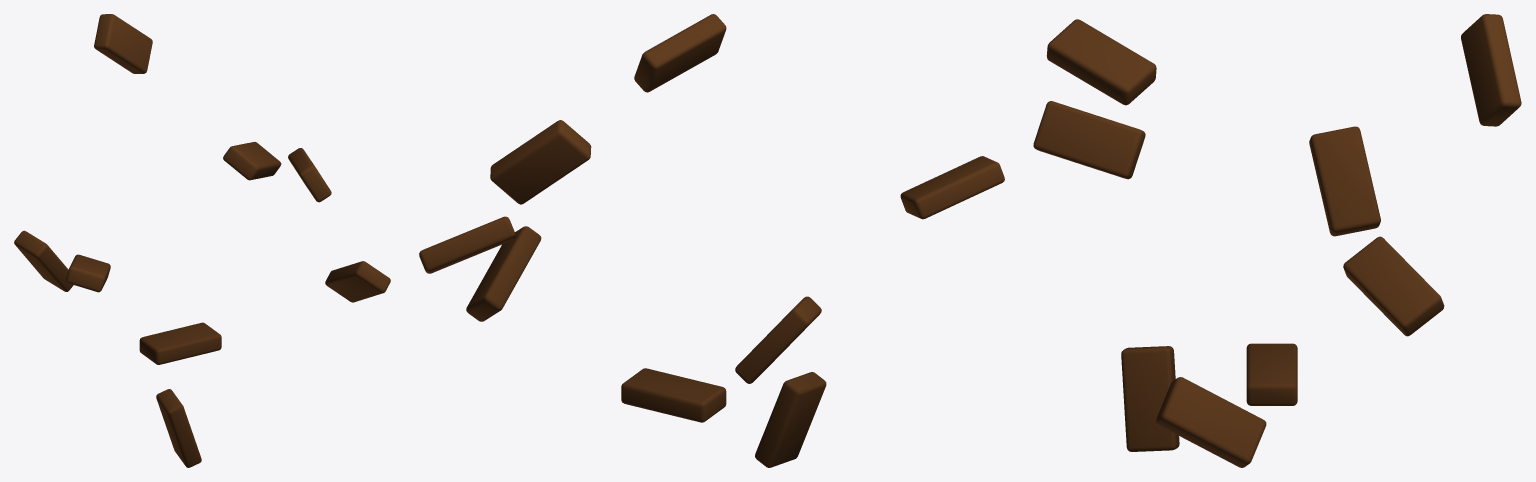
Rendered from wood-chip-debris.obj.
3 renders of one model, left to right at view 1: azimuth 30°, elevation 25°; view 2: azimuth 150°, elevation 25°; view 3: azimuth 270°, elevation 25°, orthographic. The views are drawn at different scales.
Parts seen in each view (by area): view 1: wood-chip-debris; view 2: wood-chip-debris; view 3: wood-chip-debris.
Part boxes in pixels (bbox=[...]): wood-chip-debris: bbox=[14, 14, 390, 467]; wood-chip-debris: bbox=[419, 14, 1004, 467]; wood-chip-debris: bbox=[1033, 14, 1521, 467].
Size of the model in its own units: 0.4603 by 0.4264 by 0.401.
